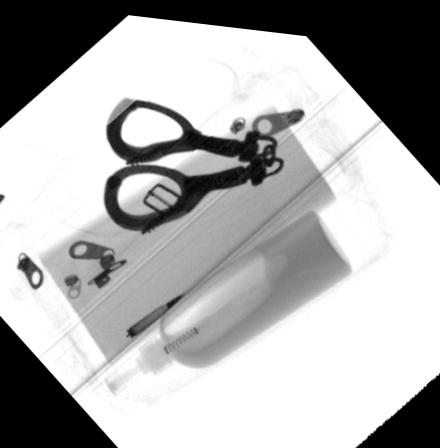Bullet: (123, 287, 187, 335)
HandCuffs: (102, 91, 290, 229)
